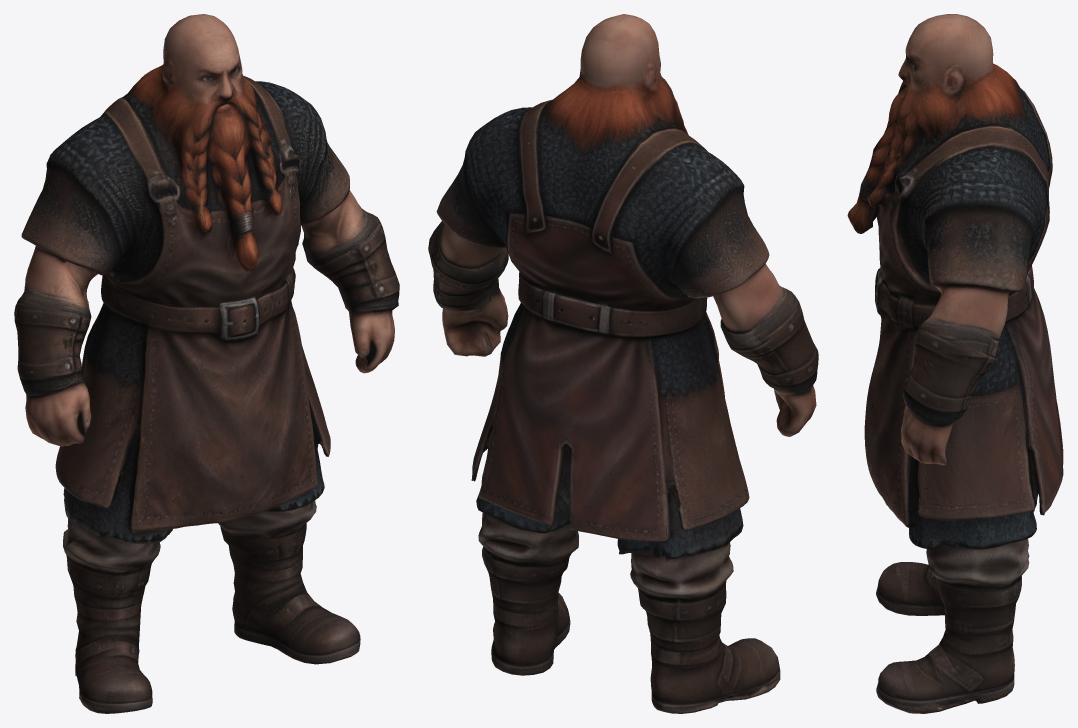
The model's file is dwarf-male-smith.glb.
3 renders of one model, left to right at view 1: azimuth 30°, elevation 25°; view 2: azimuth 150°, elevation 25°; view 3: azimuth 270°, elevation 25°, orthographic. The views are drawn at different scales.
Bounding box in the file's own units: 1.21 × 2 × 0.6176.
1 material, 1 textured.
